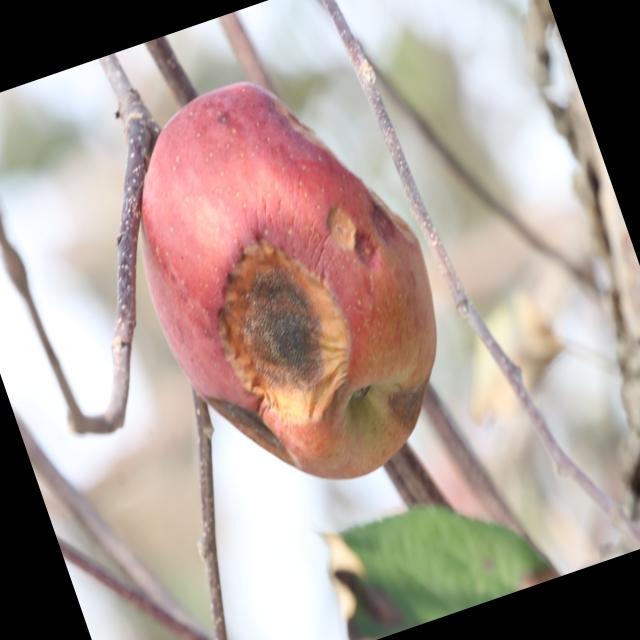rotten: (83, 26, 496, 535)
